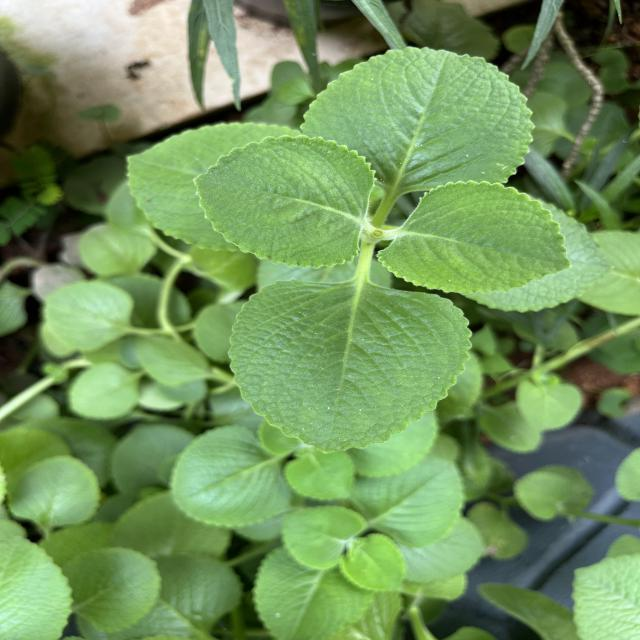Plectranthus barbatus: (224, 278, 472, 456), (296, 44, 534, 191), (190, 132, 378, 270), (372, 178, 574, 295), (170, 424, 290, 528), (254, 546, 364, 640), (61, 546, 162, 634), (8, 454, 104, 525), (278, 505, 368, 570), (338, 532, 406, 593)
